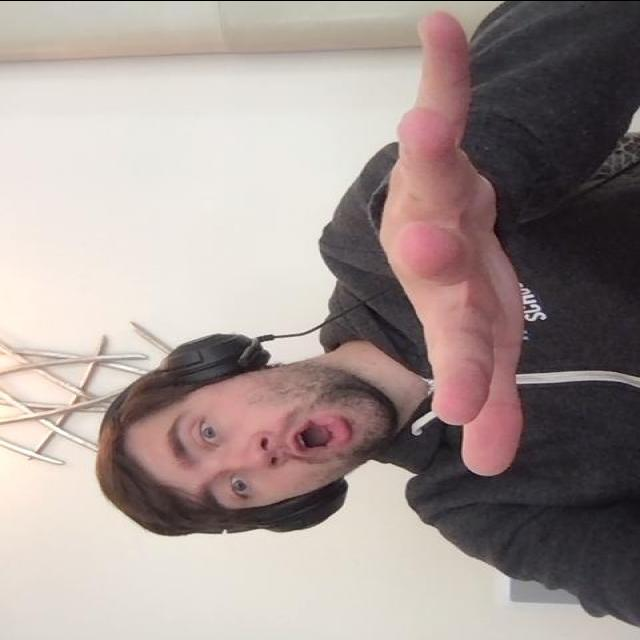Paper: (384, 2, 534, 486)
